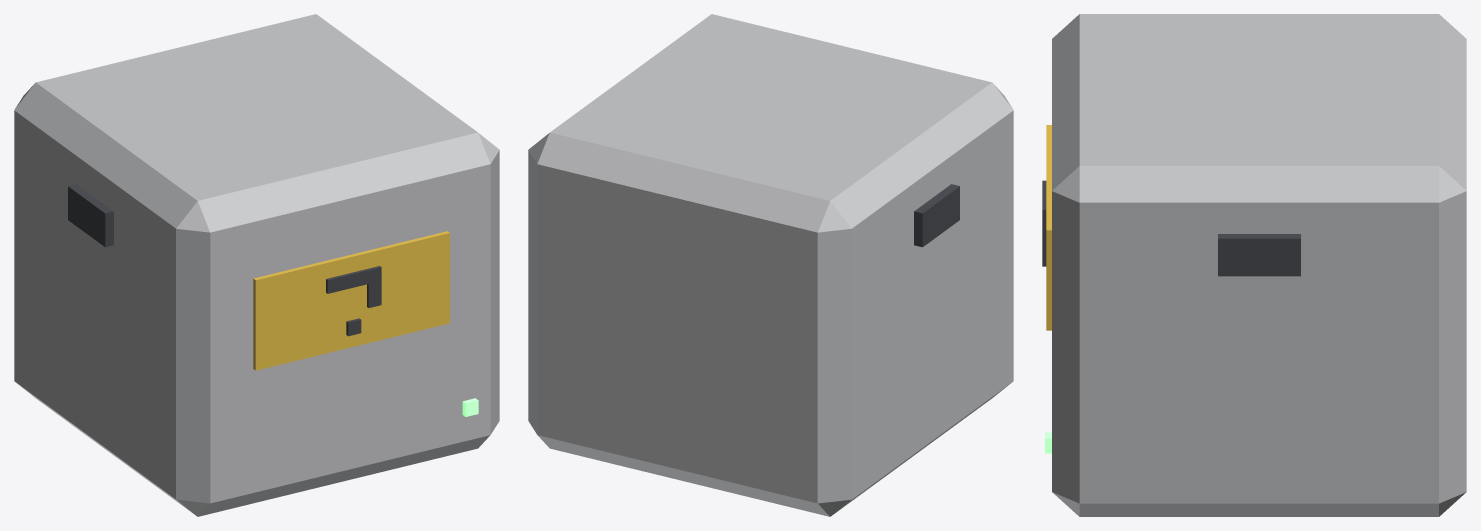
File: generic_equipment.glb
The picture shows the model from 3 angles, left to right: view 1: azimuth 30°, elevation 25°; view 2: azimuth 150°, elevation 25°; view 3: azimuth 270°, elevation 25°; orthographic projection. The views are drawn at different scales.
Visible parts, largest first — view 1: generic_equipment; view 2: generic_equipment; view 3: generic_equipment.
Boxes of the visible parts, <box> form: generic_equipment: <box>14,14,499,516</box>; generic_equipment: <box>528,14,1013,516</box>; generic_equipment: <box>1042,14,1466,516</box>.
Bounding box in the file's own units: 0.316 × 0.28 × 0.307.
2 materials, 1 textured.
